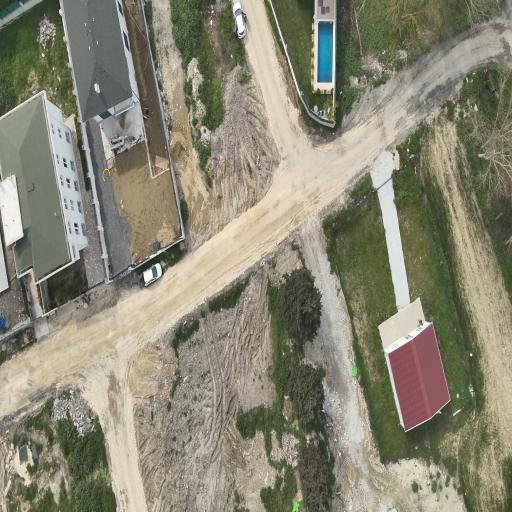car: (233, 1, 246, 37), (143, 262, 162, 284)
